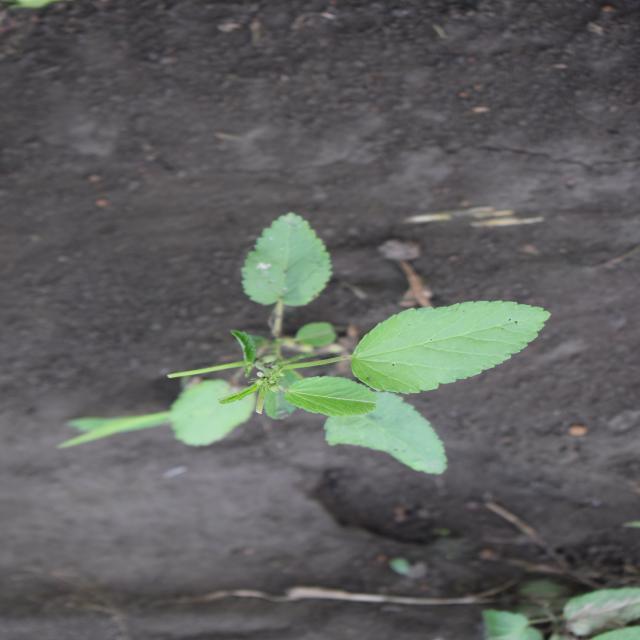PricklySida: (164, 212, 553, 477)
